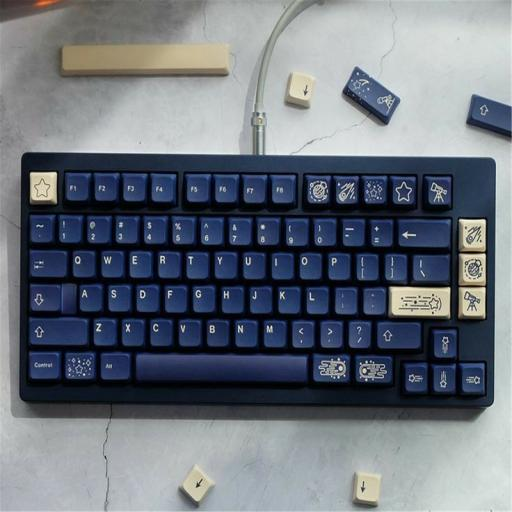KEYBOARD-2: (20, 151, 500, 423)
